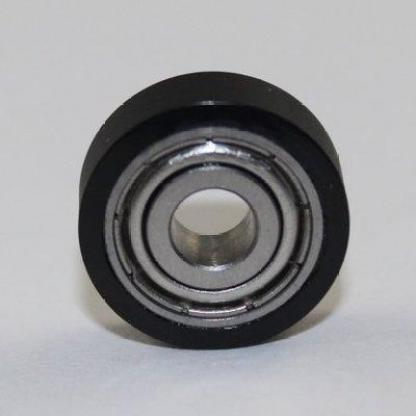FOD: (71, 66, 354, 356)
